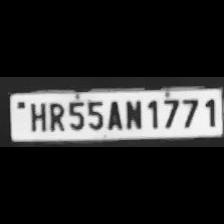1: (198, 96, 218, 128), (144, 97, 160, 130)
5: (84, 97, 104, 130), (65, 98, 85, 130)
7: (158, 96, 180, 130), (178, 96, 198, 130)
A: (104, 97, 124, 131)
H: (26, 100, 46, 132)
N: (122, 96, 144, 132)
R: (44, 100, 66, 132)
